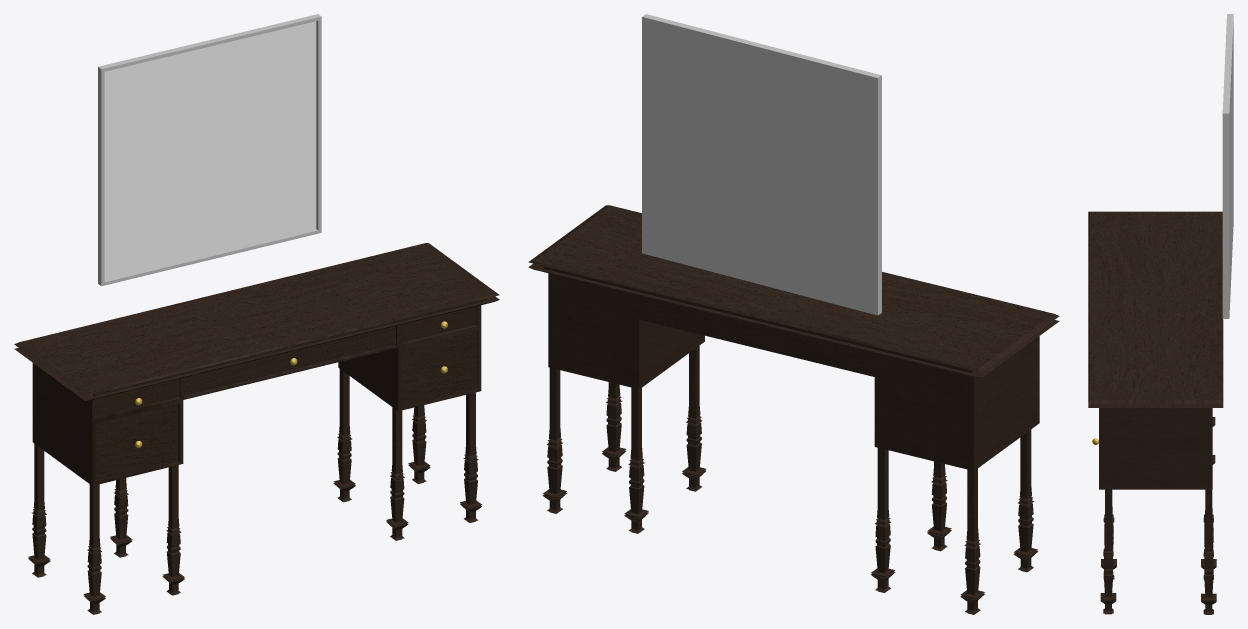
Rendered from Special tabel.fbx.
3 views of the same model, side by side, from view 1: azimuth 30°, elevation 25°; view 2: azimuth 150°, elevation 25°; view 3: azimuth 270°, elevation 25° (orthographic). The views are drawn at different scales.
Parts seen in each view (by area): view 1: polySurface1322, pCube1239, polySurface1323, pCube1261, pCube1262, pCube1264, pCube1294, pCube1290, pCube1259, pCube1293, pCube1288, pCube1260 (+4 smaller); view 2: pCube1239, polySurface1323, pCube1292, pCube1289, pCube1293, pCube1290, pCube1259, pCube1294, pCube1291, pCube1288; view 3: pCube1239, polySurface1323, pCube1292, pCube1291, pCube1293.
Part boxes in pixels (box(x1,y1,x2,y2)): polySurface1322: box(104, 21, 316, 280); pCube1239: box(14, 243, 499, 485); polySurface1323: box(98, 14, 321, 286); pCube1261: box(95, 403, 178, 481); pCube1262: box(401, 330, 477, 407); pCube1264: box(184, 326, 395, 395); pCube1294: box(386, 407, 408, 540); pCube1290: box(28, 444, 50, 577); pCube1259: box(83, 484, 105, 614); pCube1293: box(333, 369, 355, 502); pCube1288: box(162, 465, 184, 595); pCube1260: box(95, 379, 179, 417); pCube1239: box(528, 205, 1059, 470); polySurface1323: box(642, 14, 881, 315); pCube1292: box(542, 367, 566, 513); pCube1289: box(871, 447, 895, 592); pCube1293: box(624, 387, 648, 533); pCube1290: box(960, 468, 984, 614); pCube1259: box(1013, 429, 1037, 572); pCube1294: box(682, 345, 706, 491); pCube1291: box(602, 382, 626, 471); pCube1288: box(927, 461, 951, 551); pCube1239: box(1088, 211, 1223, 489); polySurface1323: box(1222, 14, 1233, 318); pCube1292: box(1201, 489, 1216, 614); pCube1291: box(1100, 489, 1116, 614); pCube1293: box(1201, 508, 1216, 579).
Size of the model in its own units: 499 by 554 by 160.
